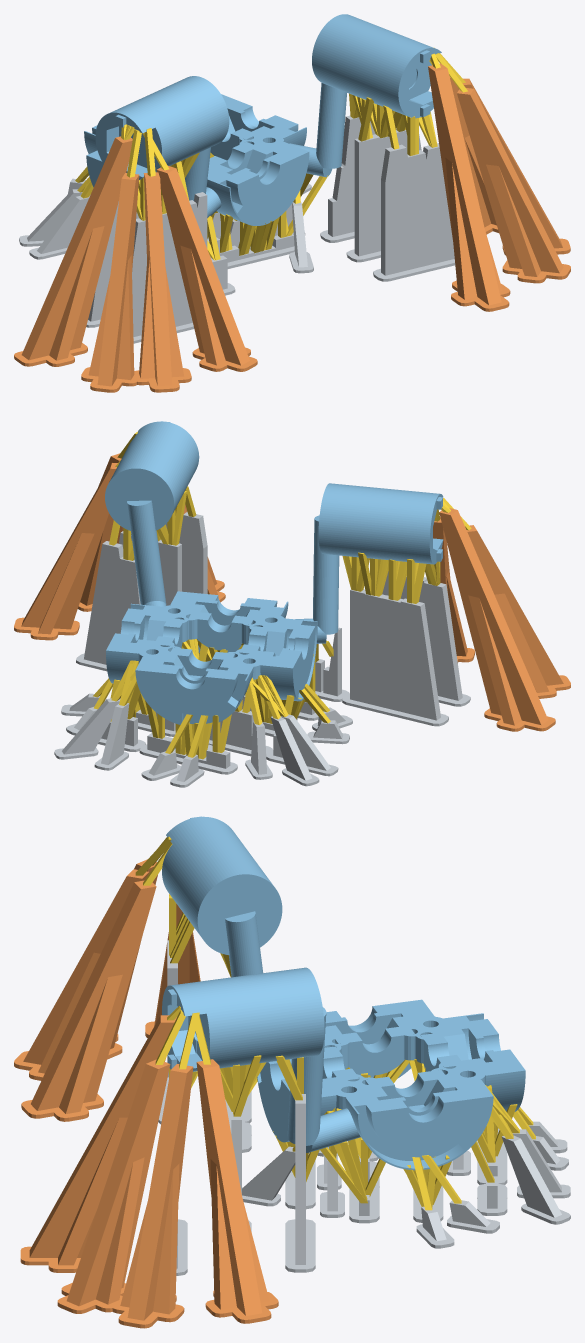
File: R05_P095_colored_reference.glb
3 renders of one model, top to bottom at view 1: azimuth 30°, elevation 25°; view 2: azimuth 150°, elevation 25°; view 3: azimuth 270°, elevation 25°, orthographic. The views are drawn at different scales.
Parts seen in each view (by area): view 1: P095_BODY__do_not_cut, S03__REINFORCED_FIN, S23__REMOVABLE_FIN, CUT_CONNECTORS__0p8mm_necks, S26__REINFORCED_FIN, S27__REINFORCED_FIN, S06__REINFORCED_FIN, S01__REINFORCED_FIN, S02__REINFORCED_FIN, S24__REMOVABLE_FIN, S04__REMOVABLE_FIN, S25__REMOVABLE_FIN (+7 smaller); view 2: P095_BODY__do_not_cut, CUT_CONNECTORS__0p8mm_necks, S05__REMOVABLE_FIN, S03__REINFORCED_FIN, S29__REINFORCED_FIN, S25__REMOVABLE_FIN, S01__REINFORCED_FIN, S04__REMOVABLE_FIN, S23__REMOVABLE_FIN, S18__REMOVABLE_FIN, S34__REMOVABLE_FIN, S13__REMOVABLE_FIN (+11 smaller); view 3: P095_BODY__do_not_cut, CUT_CONNECTORS__0p8mm_necks, S06__REINFORCED_FIN, S27__REINFORCED_FIN, S29__REINFORCED_FIN, S28__REINFORCED_FIN, S26__REINFORCED_FIN, S02__REINFORCED_FIN, S25__REMOVABLE_FIN, S34__REMOVABLE_FIN, S22__REMOVABLE_FIN, S18__REMOVABLE_FIN (+8 smaller).
Part boxes in pixels (left/top/right/bottom): P095_BODY__do_not_cut: left=84, top=14, right=441, bottom=225; S03__REINFORCED_FIN: left=14, top=136, right=132, bottom=366; S23__REMOVABLE_FIN: left=373, top=143, right=455, bottom=281; CUT_CONNECTORS__0p8mm_necks: left=75, top=47, right=467, bottom=260; S26__REINFORCED_FIN: left=428, top=63, right=510, bottom=311; S27__REINFORCED_FIN: left=457, top=88, right=570, bottom=283; S06__REINFORCED_FIN: left=156, top=166, right=257, bottom=371; S01__REINFORCED_FIN: left=81, top=173, right=140, bottom=392; S02__REINFORCED_FIN: left=134, top=172, right=191, bottom=392; S24__REMOVABLE_FIN: left=346, top=129, right=421, bottom=262; S04__REMOVABLE_FIN: left=132, top=192, right=207, bottom=343; S25__REMOVABLE_FIN: left=320, top=115, right=375, bottom=242; P095_BODY__do_not_cut: left=105, top=421, right=443, bottom=724; CUT_CONNECTORS__0p8mm_necks: left=93, top=431, right=471, bottom=759; S05__REMOVABLE_FIN: left=315, top=589, right=448, bottom=726; S03__REINFORCED_FIN: left=439, top=508, right=555, bottom=731; S29__REINFORCED_FIN: left=14, top=463, right=117, bottom=640; S25__REMOVABLE_FIN: left=76, top=541, right=140, bottom=671; S01__REINFORCED_FIN: left=466, top=525, right=570, bottom=698; S04__REMOVABLE_FIN: left=382, top=571, right=470, bottom=706; S23__REMOVABLE_FIN: left=166, top=512, right=207, bottom=593; S18__REMOVABLE_FIN: left=98, top=717, right=237, bottom=774; S34__REMOVABLE_FIN: left=54, top=698, right=120, bottom=759; S13__REMOVABLE_FIN: left=208, top=709, right=284, bottom=764; P095_BODY__do_not_cut: left=162, top=816, right=525, bottom=1170; CUT_CONNECTORS__0p8mm_necks: left=135, top=836, right=535, bottom=1210; S06__REINFORCED_FIN: left=21, top=880, right=156, bottom=1121; S27__REINFORCED_FIN: left=57, top=1059, right=170, bottom=1313; S29__REINFORCED_FIN: left=196, top=1059, right=278, bottom=1323; S28__REINFORCED_FIN: left=112, top=1064, right=193, bottom=1328; S26__REINFORCED_FIN: left=20, top=1015, right=176, bottom=1272; S02__REINFORCED_FIN: left=14, top=869, right=148, bottom=1080; S25__REMOVABLE_FIN: left=285, top=1094, right=315, bottom=1272; S34__REMOVABLE_FIN: left=501, top=1135, right=570, bottom=1224; S22__REMOVABLE_FIN: left=242, top=1146, right=295, bottom=1206; S18__REMOVABLE_FIN: left=477, top=1128, right=507, bottom=1215.
Bounding box in the file's own units: 0.084 × 0.0325 × 0.0627.
